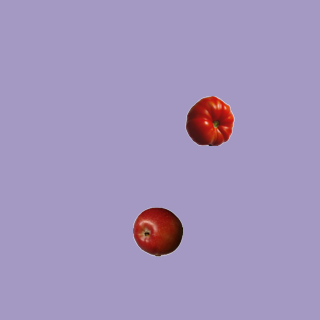Apple Braeburn: (132, 206, 182, 256)
Tomato 3: (184, 95, 234, 145)
